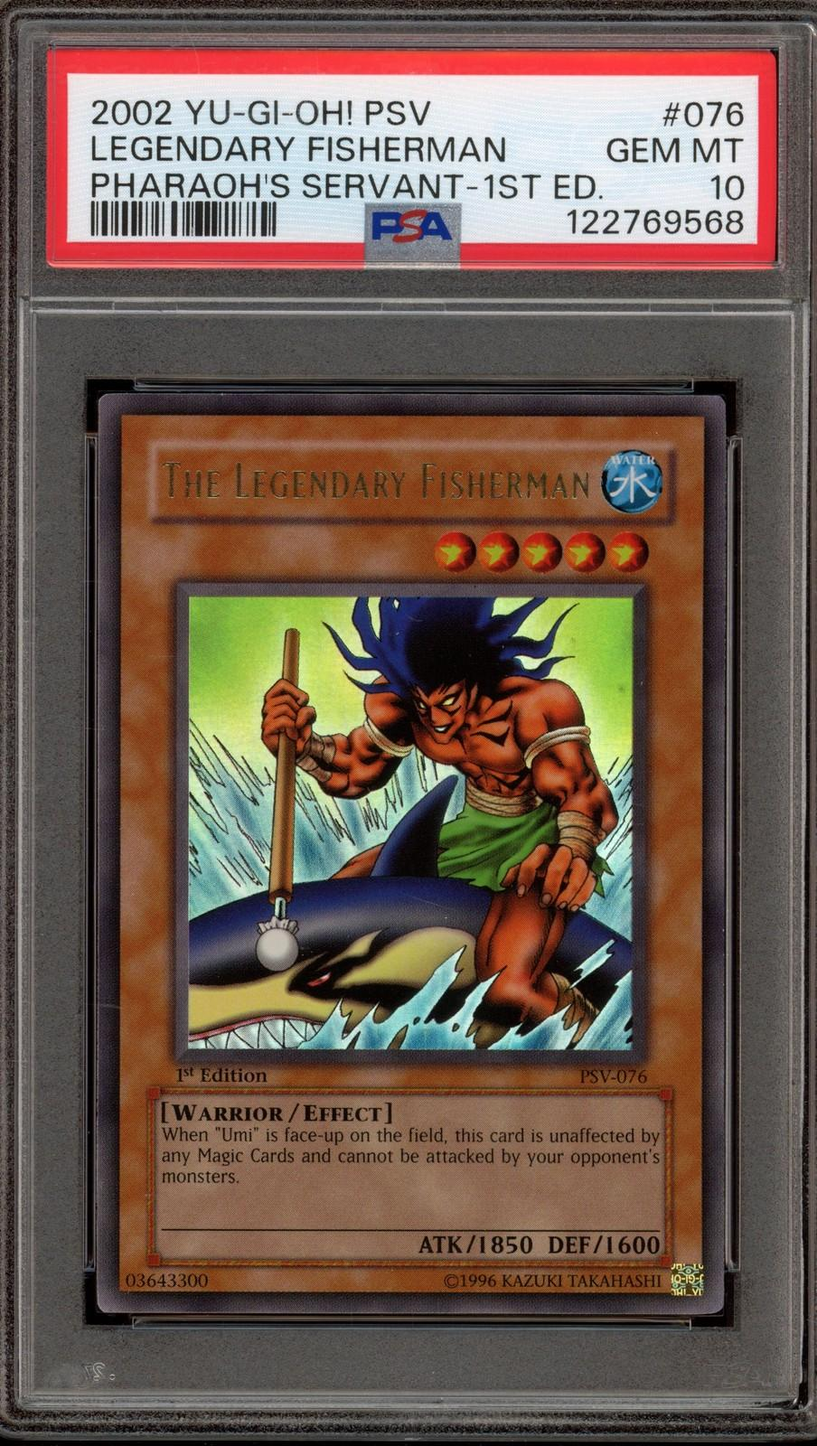card-2UtV: (97, 393, 726, 1314)
